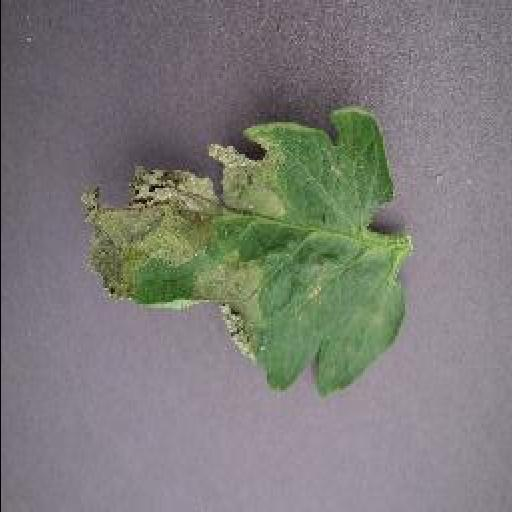disease_tomato: (83, 101, 409, 395)
